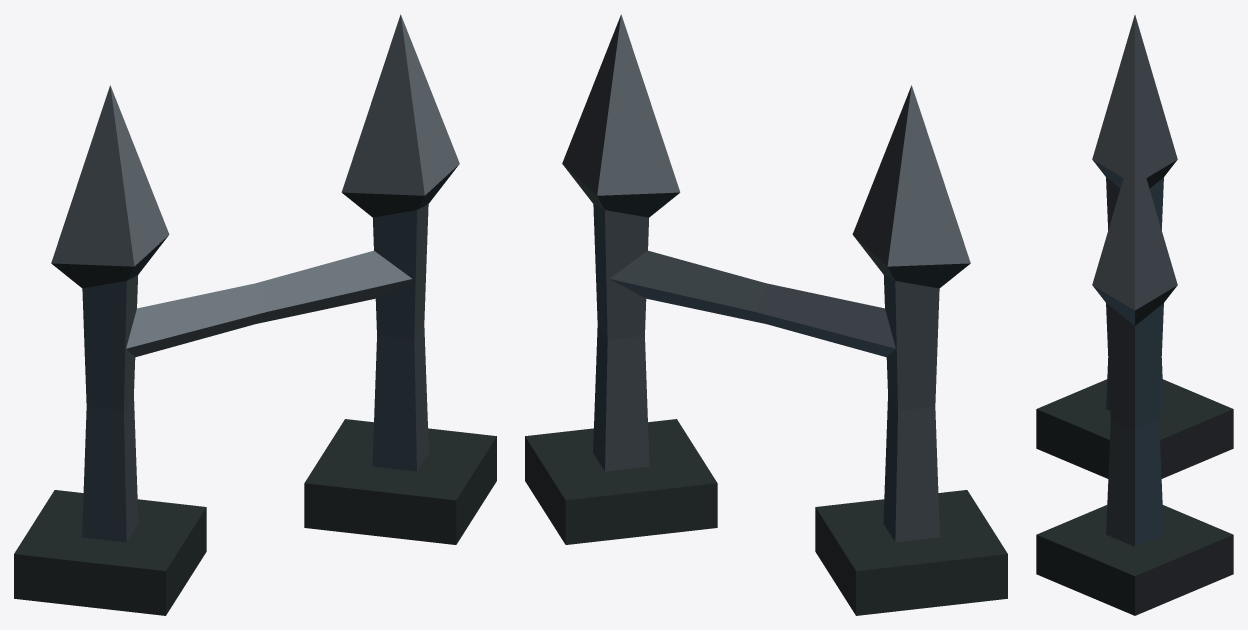
File: metal_spike_straight_element.fbx
The picture shows the model from 3 angles, left to right: view 1: azimuth 30°, elevation 25°; view 2: azimuth 150°, elevation 25°; view 3: azimuth 270°, elevation 25°; orthographic projection. The views are drawn at different scales.
Visible parts, largest first — view 1: metal_spike_straight_element; view 2: metal_spike_straight_element; view 3: metal_spike_straight_element.
Boxes of the visible parts, x1,y1,x2,y2 form: metal_spike_straight_element: [14, 14, 496, 615]; metal_spike_straight_element: [525, 14, 1007, 615]; metal_spike_straight_element: [1036, 15, 1233, 615].
Size of the model in its own units: 83.15 by 80.68 by 33.15.
